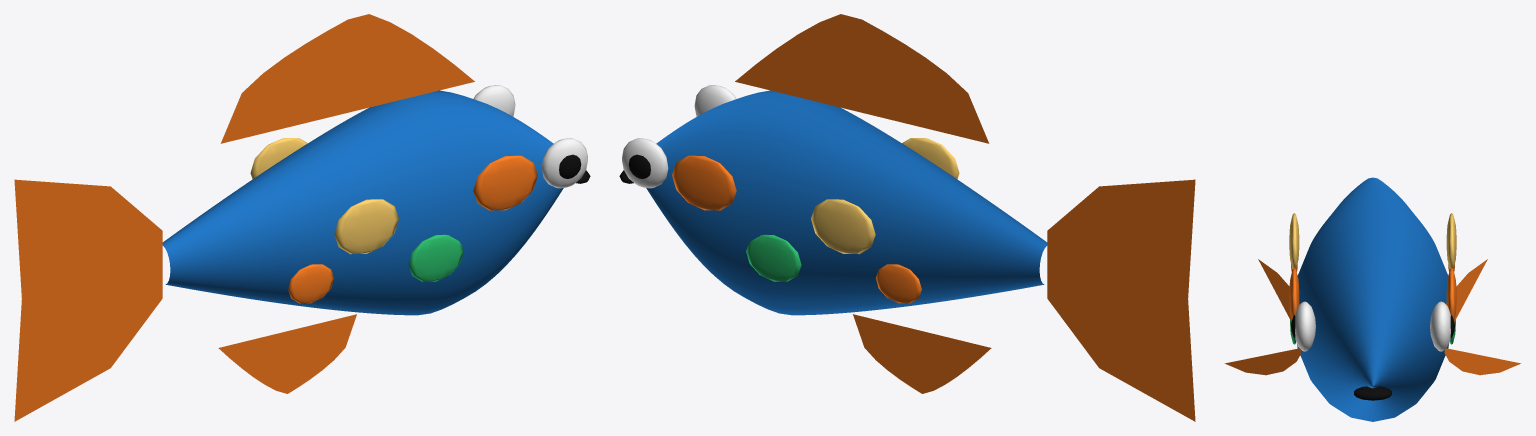
Rendered from mandarin.glb.
3 views of the same model, side by side, from view 1: azimuth 30°, elevation 25°; view 2: azimuth 150°, elevation 25°; view 3: azimuth 270°, elevation 25° (orthographic). The views are drawn at different scales.
Visible parts, largest first — view 1: mandarin; view 2: mandarin; view 3: mandarin.
Boxes of the visible parts, <box> form: mandarin: <box>14,14,590,421</box>; mandarin: <box>619,14,1195,421</box>; mandarin: <box>1224,177,1521,421</box>.
Bounding box in the file's own units: 1.23 × 0.7432 × 0.5922.
